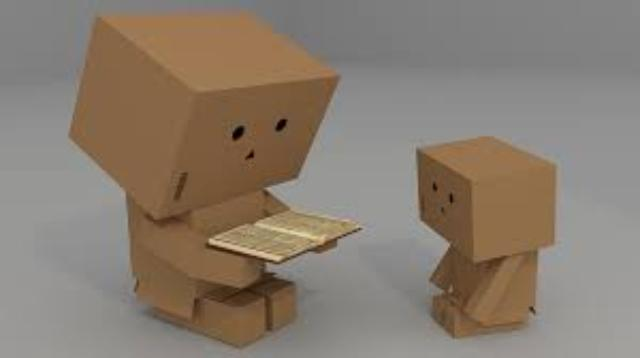cardboard paper: (68, 11, 354, 341), (68, 11, 335, 215)
